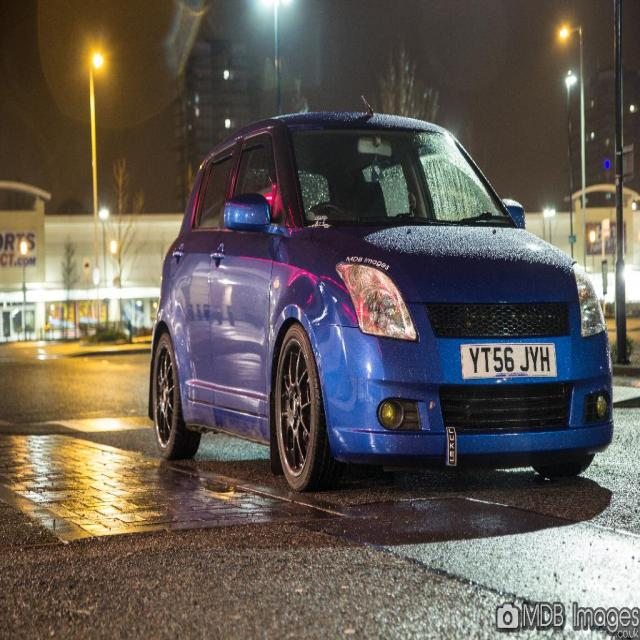other: (148, 94, 614, 492)
